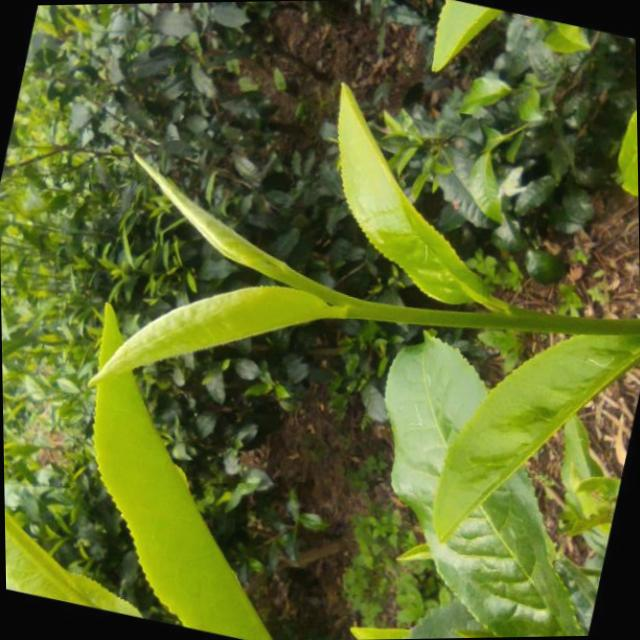Stem: (344, 298, 385, 320)
